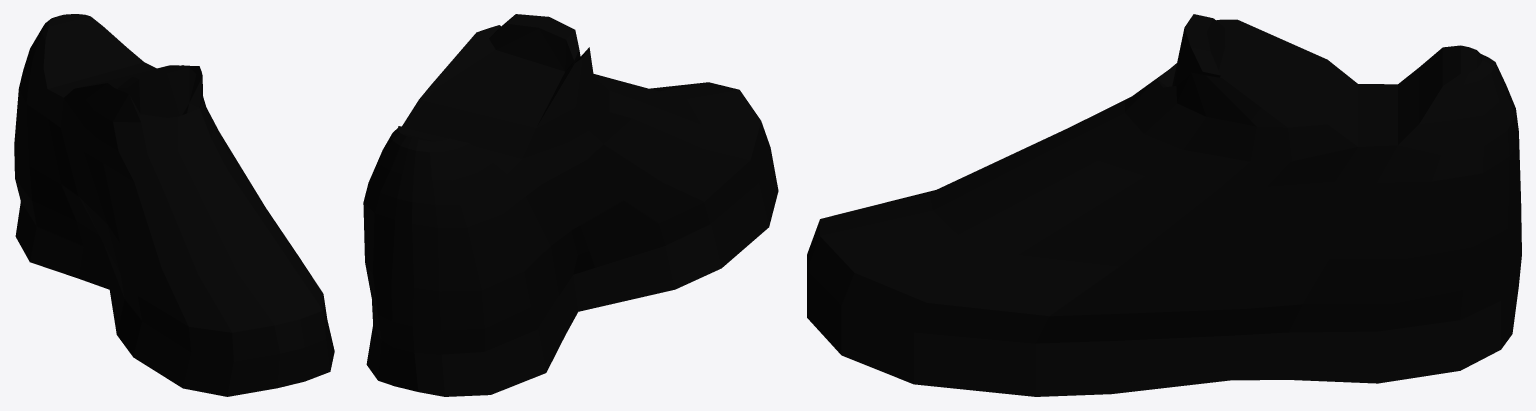
The model's file is shoe.glb.
3 renders of one model, left to right at view 1: azimuth 30°, elevation 25°; view 2: azimuth 150°, elevation 25°; view 3: azimuth 270°, elevation 25°, orthographic. The views are drawn at different scales.
Visible parts, largest first — view 1: L, R; view 2: R, L; view 3: R, L.
Boxes of the visible parts, x1,y1,x2,y2 form: L: [68, 65, 334, 396]; R: [14, 14, 239, 307]; R: [363, 62, 616, 396]; L: [450, 14, 778, 302]; R: [1042, 45, 1521, 396]; L: [807, 14, 1336, 396].
Size of the model in its own units: 1.48 by 1.8 by 3.77.
Materials: 1 (1 with a texture image).
